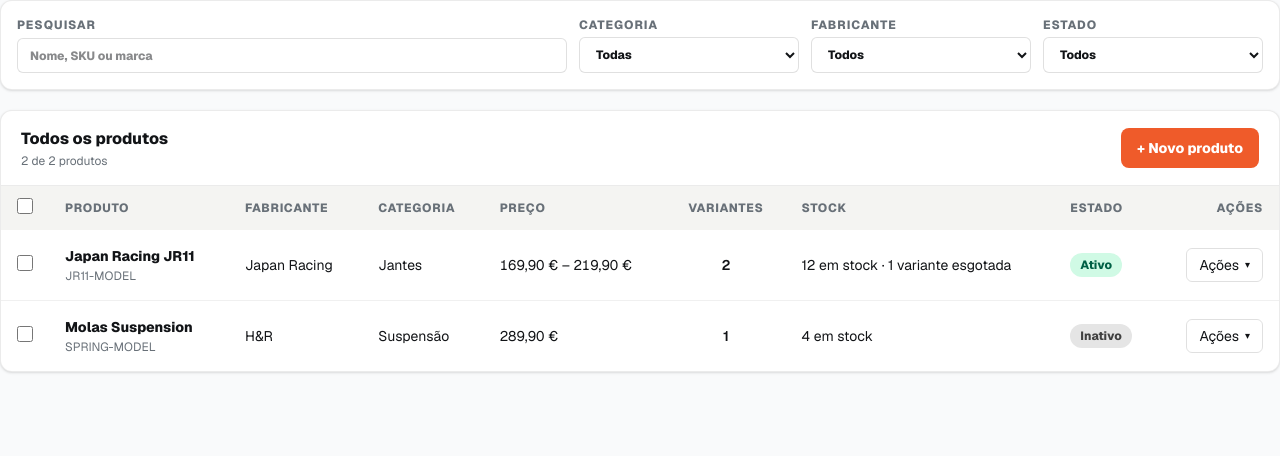
Scenario: ProductsClient › executa ativação em massa e atualiza a lista
Check: the heading "Todos os produtos" is shown, box [21, 127, 168, 151]
Click the checkbox named "Selecionar todos os produtos visíveis". click: (25, 206)
box: [17, 198, 33, 214]
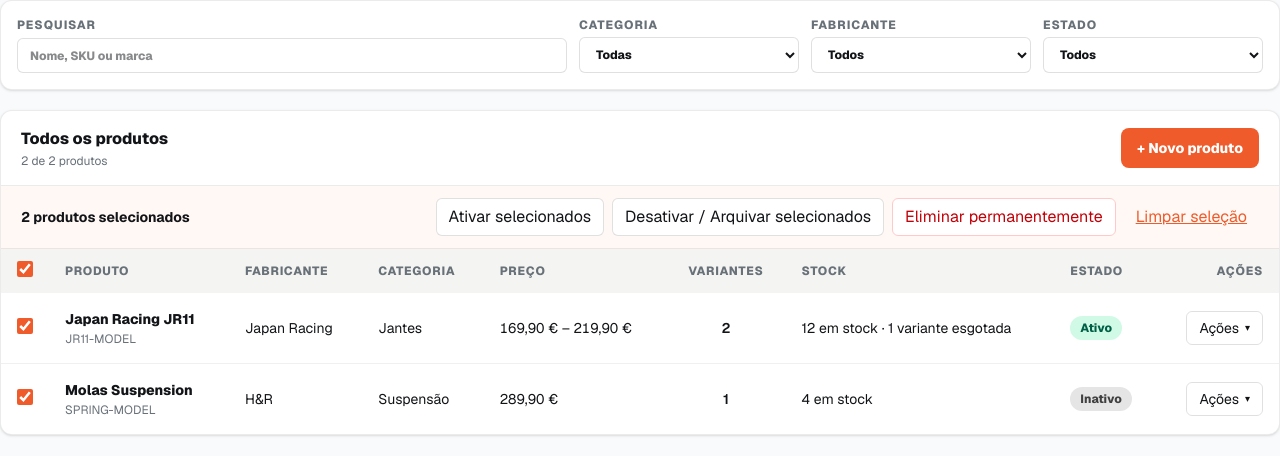
Click the button "Ativar selecionados". click: (520, 217)
box: [436, 198, 604, 236]
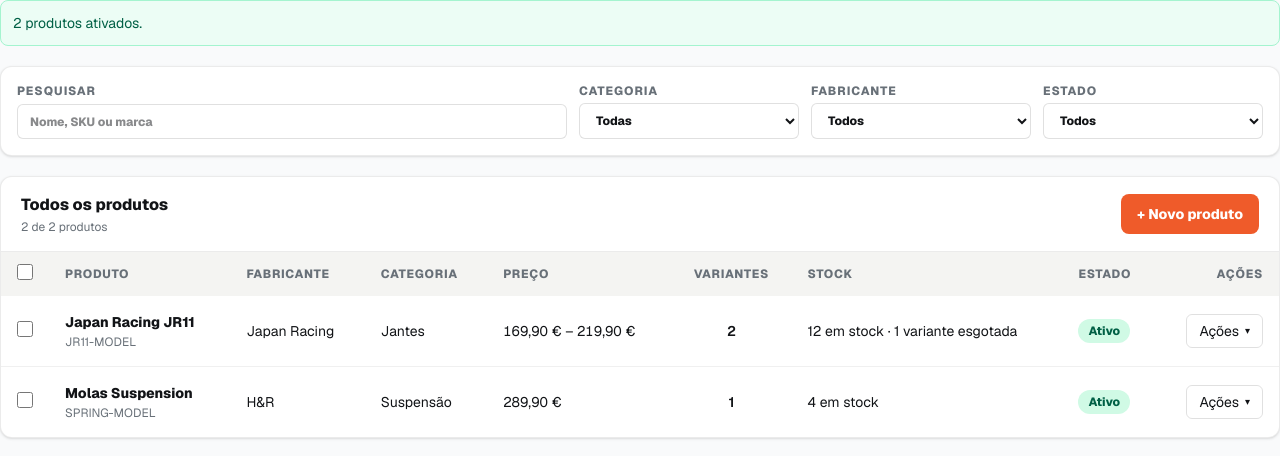
Check: the text "2 produtos ativados." is shown, box [0, 0, 1279, 46]
Check: the text "2 produtos selecionados" is gone
